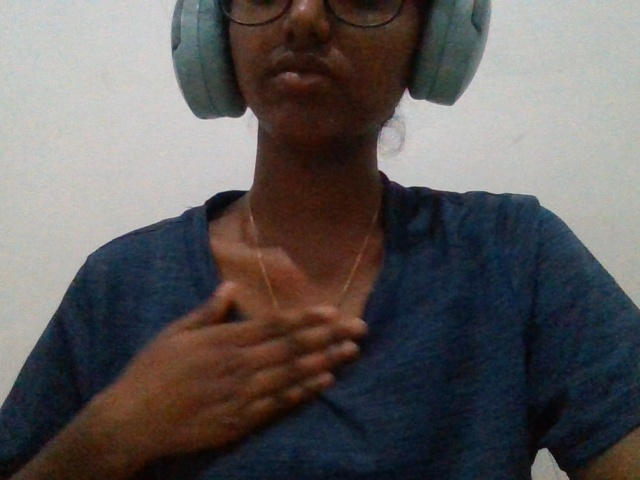Please: (52, 263, 397, 472)
